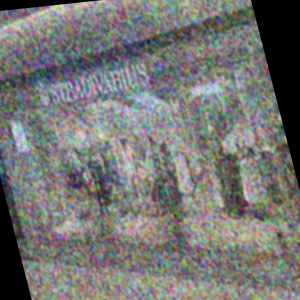stradivarius: (117, 26, 183, 96)
